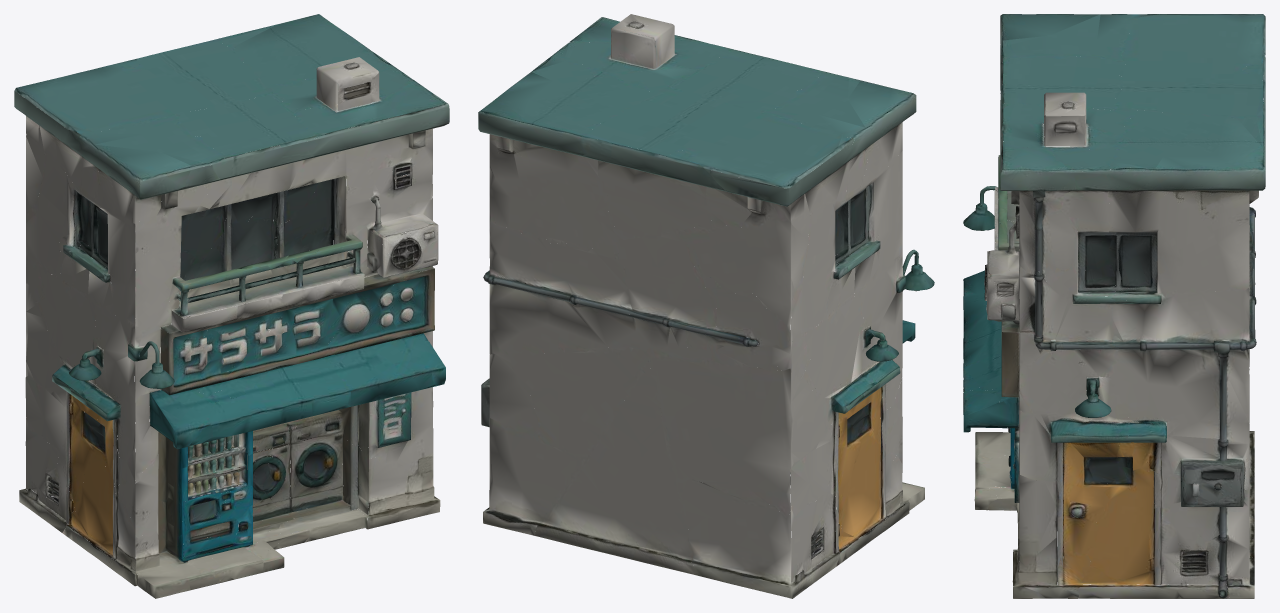
Rendered from building1v2.glb.
3 renders of one model, left to right at view 1: azimuth 30°, elevation 25°; view 2: azimuth 150°, elevation 25°; view 3: azimuth 270°, elevation 25°, orthographic. The views are drawn at different scales.
Visible parts, largest first — view 1: tripo_node_18397e92-01be-43df-9d41-84095e5023e8; view 2: tripo_node_18397e92-01be-43df-9d41-84095e5023e8; view 3: tripo_node_18397e92-01be-43df-9d41-84095e5023e8.
Boxes of the visible parts, <box> form: tripo_node_18397e92-01be-43df-9d41-84095e5023e8: <box>14,14,449,598</box>; tripo_node_18397e92-01be-43df-9d41-84095e5023e8: <box>478,14,934,598</box>; tripo_node_18397e92-01be-43df-9d41-84095e5023e8: <box>963,14,1265,598</box>.
Bounding box in the file's own units: 0.8473 × 0.9998 × 0.5922.
1 material, 1 textured.
